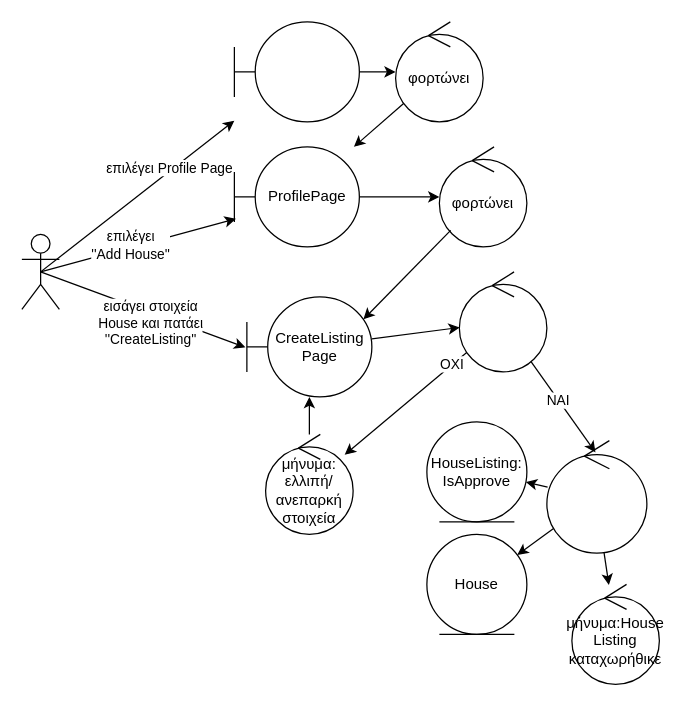
The diagram is 686 pixels wide and 706 high, and some of its shapes have lost their labels. The shapes that lost their labels are listed below. From the top down, each one's box as (x1, y1, x2, y2) in pixels, then its label:
(233, 21, 359, 122): NavigationBar
(21, 233, 59, 309): User
(458, 271, 547, 372): έλεγχος πληρότητας στοιχείων
(546, 439, 647, 553): αποθηκεύει ως ''pending''
